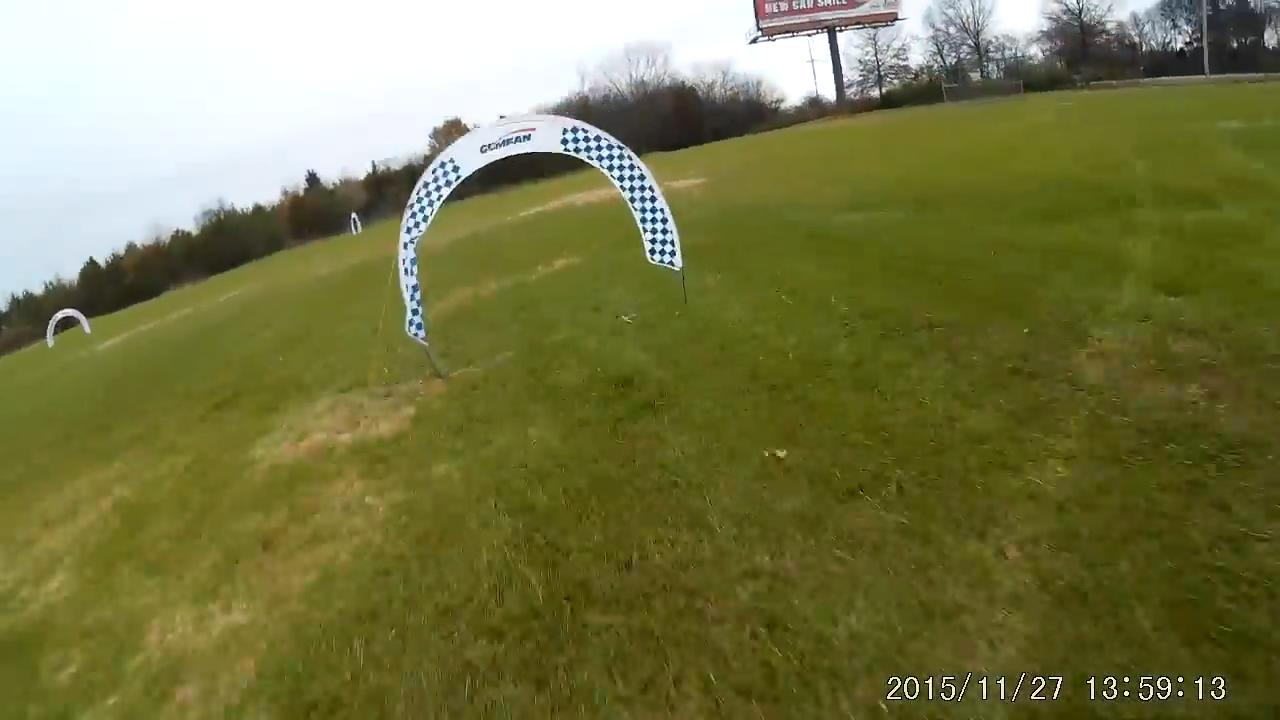gate: (392, 111, 685, 339)
